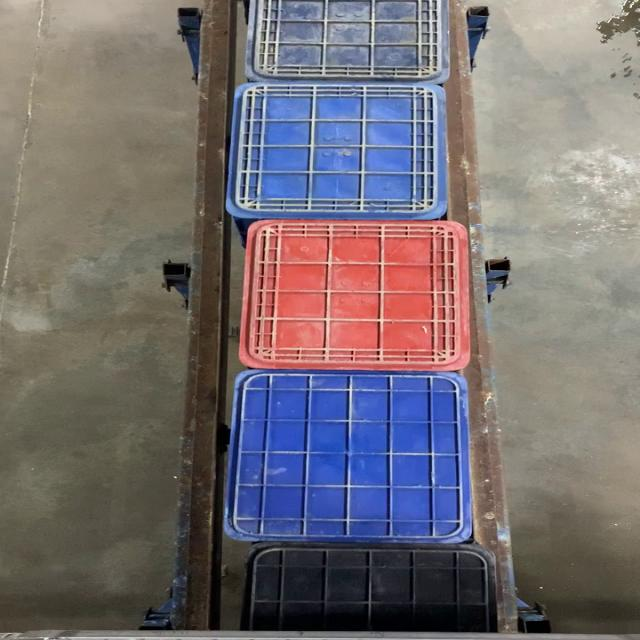Box: (223, 374, 474, 542), (237, 220, 472, 372), (226, 82, 447, 218)
